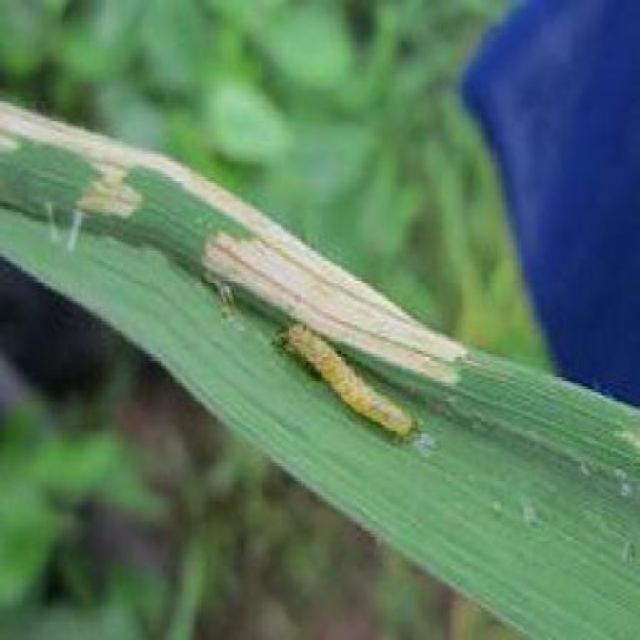leaf-folder: (270, 305, 453, 450)
